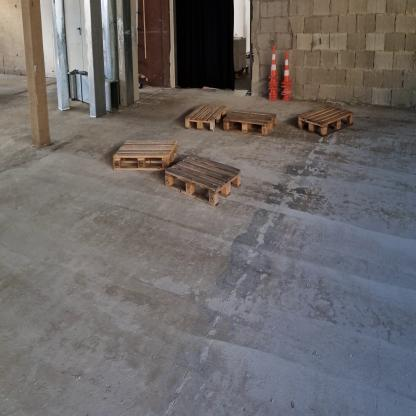BoxFace: (163, 147, 243, 213), (294, 100, 357, 143), (110, 137, 179, 174), (220, 105, 281, 142), (182, 96, 232, 137)
